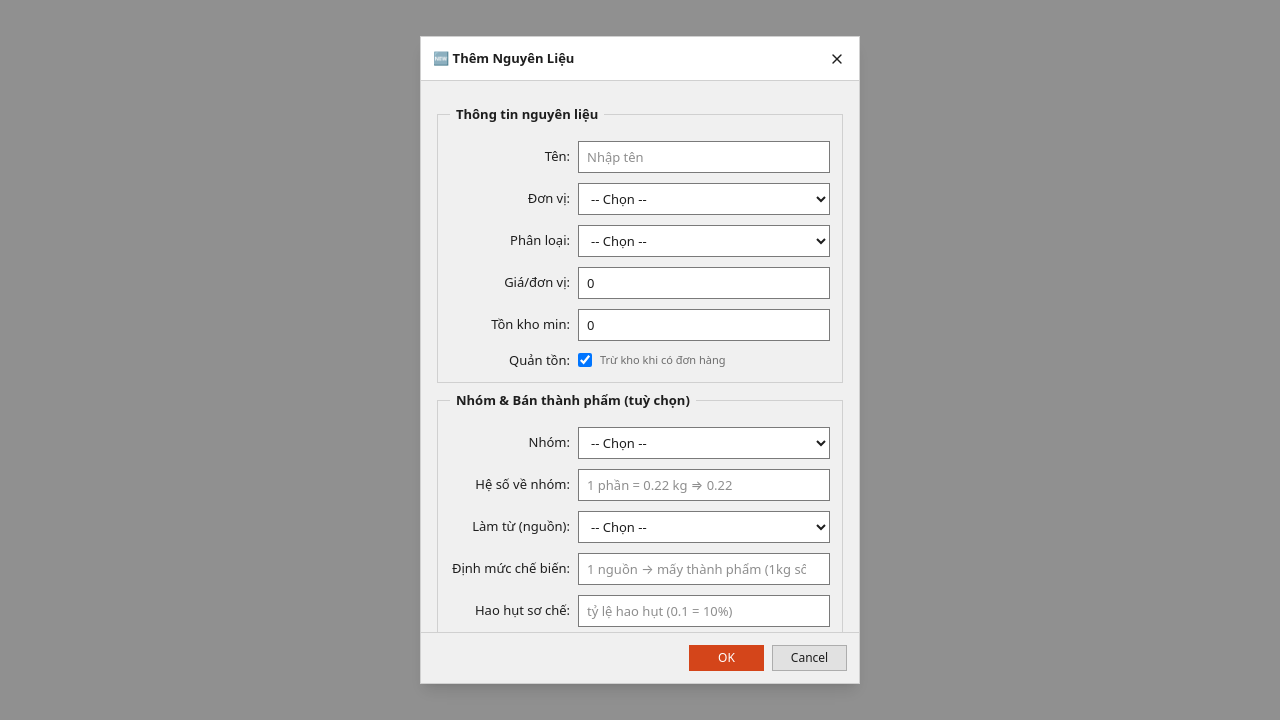
IngredientForm › validates required fields
Click the button "OK" at (726,658), box top-left (689, 645), bottom-right (764, 671)
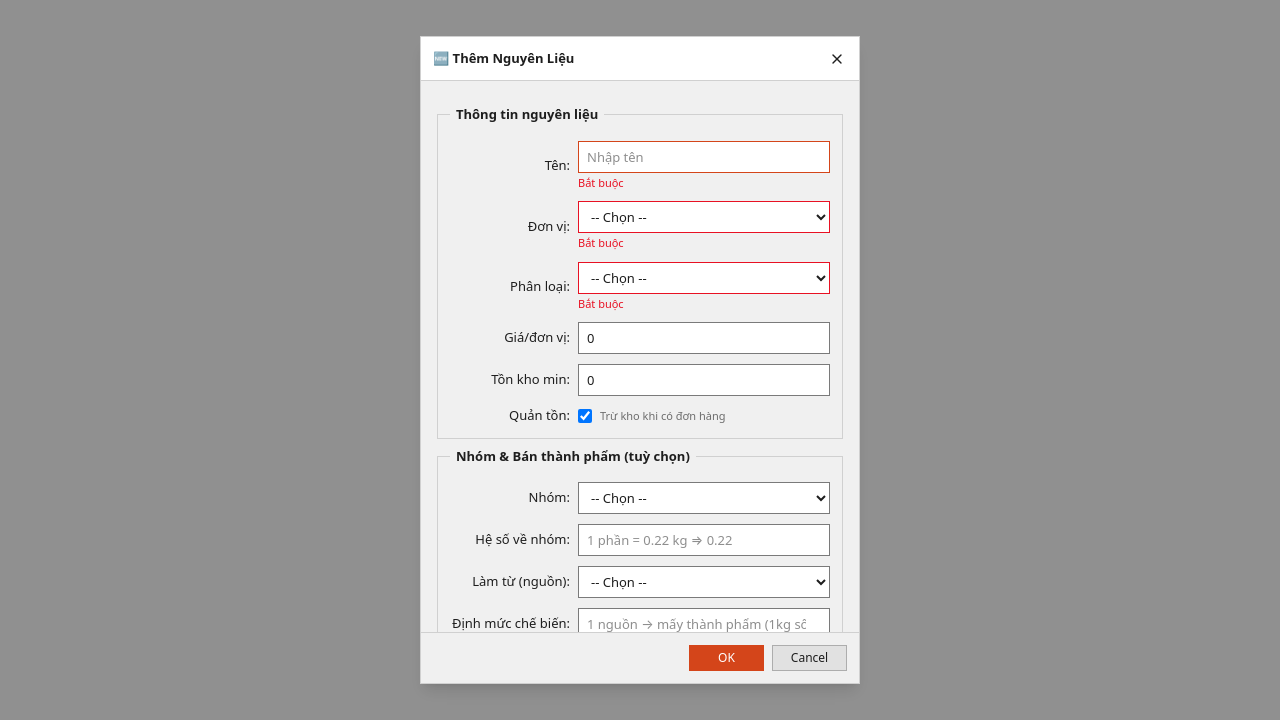
Expected: the text "Bắt buộc" below "Tên" is shown, top-left (578, 174), bottom-right (624, 190)
